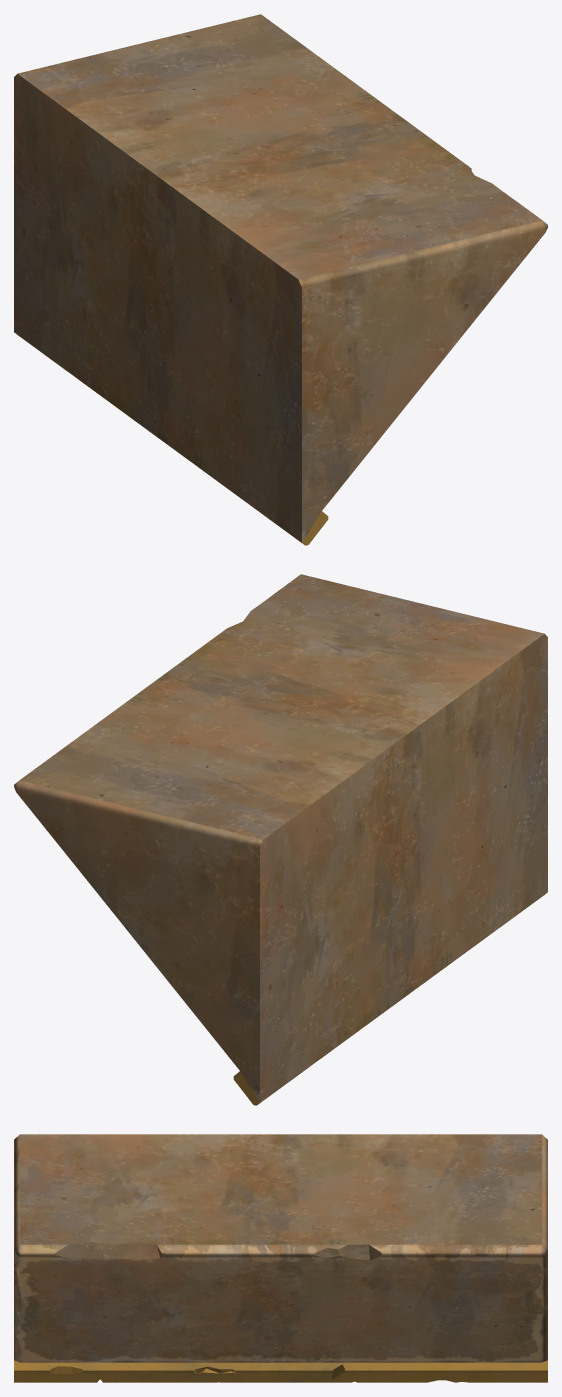
3 views of the same model, one above another, from view 1: azimuth 30°, elevation 25°; view 2: azimuth 150°, elevation 25°; view 3: azimuth 270°, elevation 25° (orthographic). The views are drawn at different scales.
Visible parts, largest first — view 1: SM_Vault_4m_Ceiling_01_V1_LOD0; view 2: SM_Vault_4m_Ceiling_01_V1_LOD0; view 3: SM_Vault_4m_Ceiling_01_V1_LOD0.
Boxes of the visible parts, left/top/right/bottom form: SM_Vault_4m_Ceiling_01_V1_LOD0: left=14, top=14, right=547, bottom=545; SM_Vault_4m_Ceiling_01_V1_LOD0: left=14, top=574, right=547, bottom=1105; SM_Vault_4m_Ceiling_01_V1_LOD0: left=14, top=1134, right=547, bottom=1382.
Size of the model in its own units: 2 by 2.04 by 4.
Materials: 2 (2 with a texture image).
